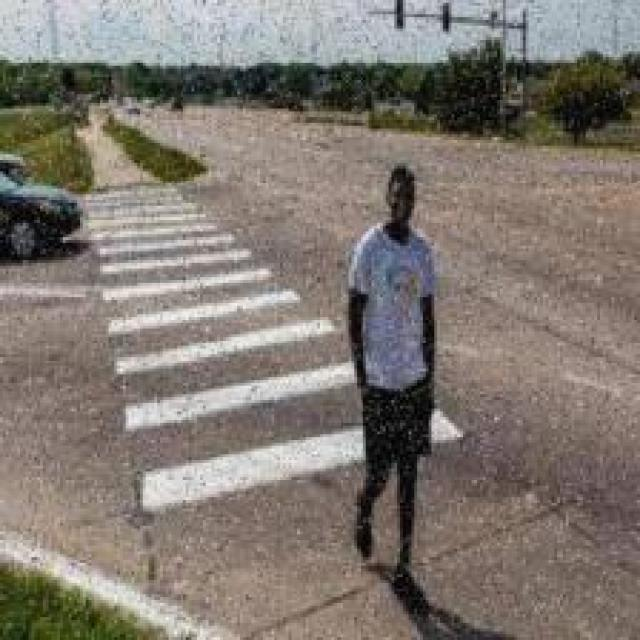crosswalk: (83, 180, 360, 528)
